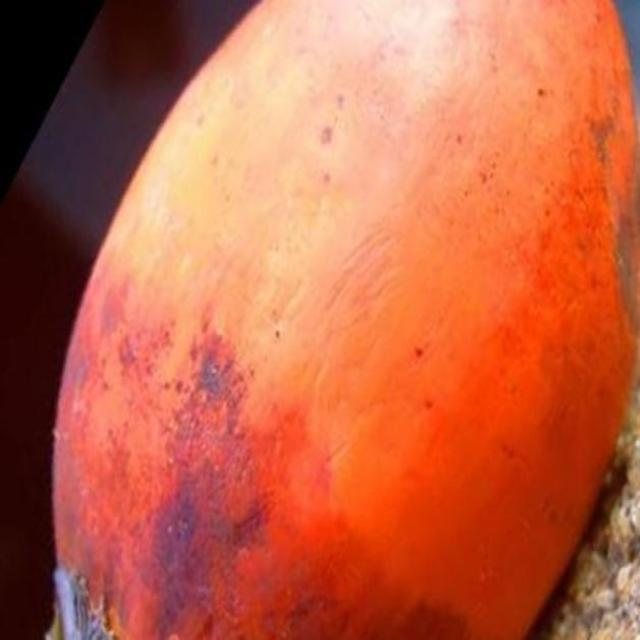good: (46, 1, 639, 639)
